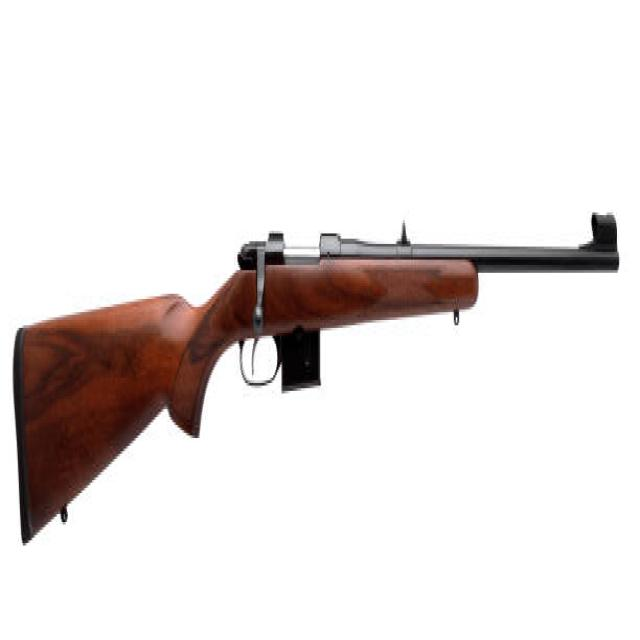rifle: (12, 201, 626, 577)
